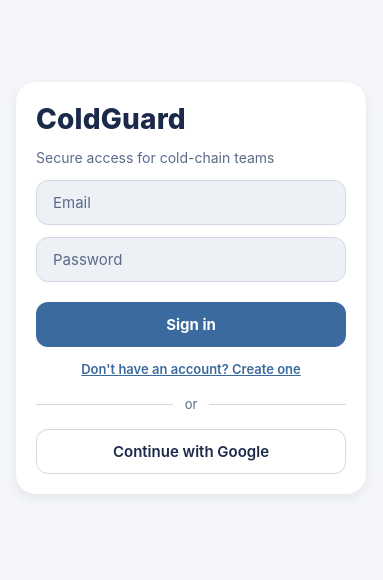
Test case: toggles to create-account mode and back
The image size is (383, 580).
What coordinates should you click on to do the following:
click the text "Don't have an account? Create one"
I would click on:
 (191, 369)
Its box is [81, 361, 301, 377].
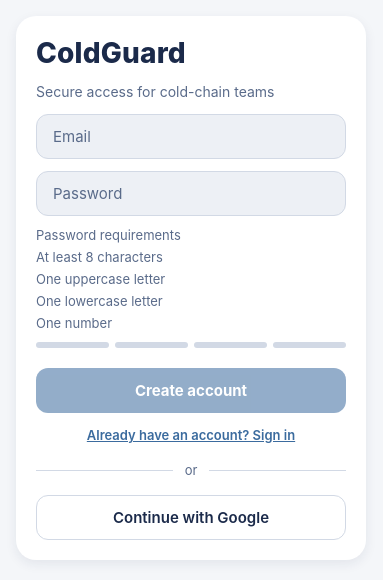
Expected: the text "Create account" is shown, [135, 381, 247, 400]
Expected: the text "Already have an account? Sign in" is shown
What coordinates should you click on to do the following:
click the text "Already have an account? Sign in"
I would click on:
 (191, 435)
Its box is [87, 427, 295, 443].
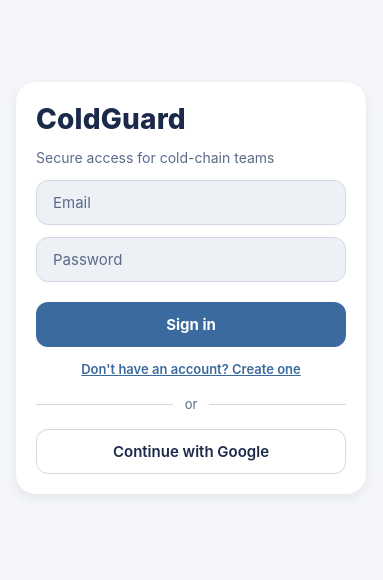
Expected: the text "Sign in" is shown, [166, 315, 216, 334]
Expected: the text "Don't have an account? Create one" is shown, [81, 361, 301, 377]
